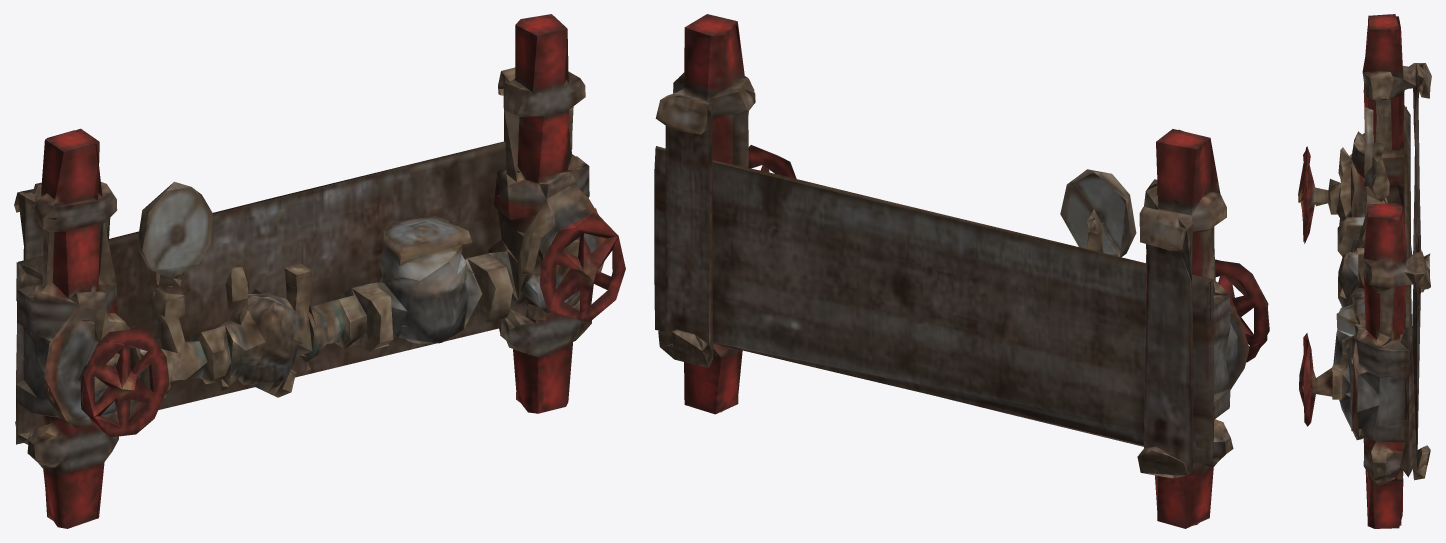
File: p7-pipe-valve-manifold.glb
The picture shows the model from 3 angles, left to right: view 1: azimuth 30°, elevation 25°; view 2: azimuth 150°, elevation 25°; view 3: azimuth 270°, elevation 25°; orthographic projection. The views are drawn at different scales.
Parts seen in each view (by area): view 1: p7-pipe-valve-manifold; view 2: p7-pipe-valve-manifold; view 3: p7-pipe-valve-manifold.
Part boxes in pixels (x1,y1,x2,y2): p7-pipe-valve-manifold: [14, 14, 625, 528]; p7-pipe-valve-manifold: [654, 14, 1269, 528]; p7-pipe-valve-manifold: [1298, 14, 1431, 528].
Size of the model in its own units: 1.56 by 1 by 0.3905.
Materials: 1 (1 with a texture image).
